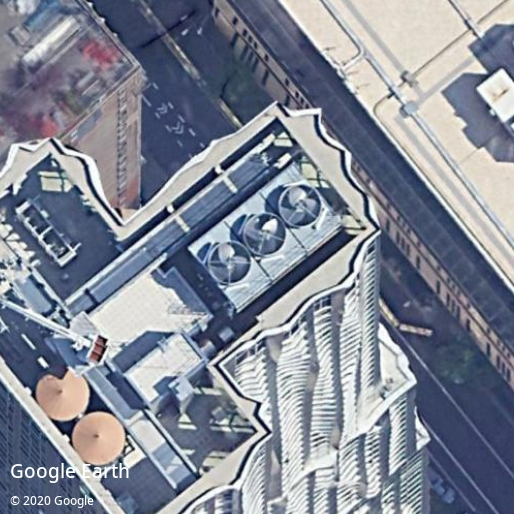Vent: (244, 213, 286, 256), (280, 184, 322, 226), (209, 242, 251, 284)
